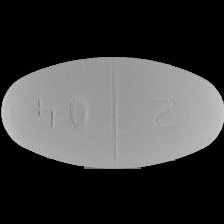63629-3375: (0, 0, 224, 224)
